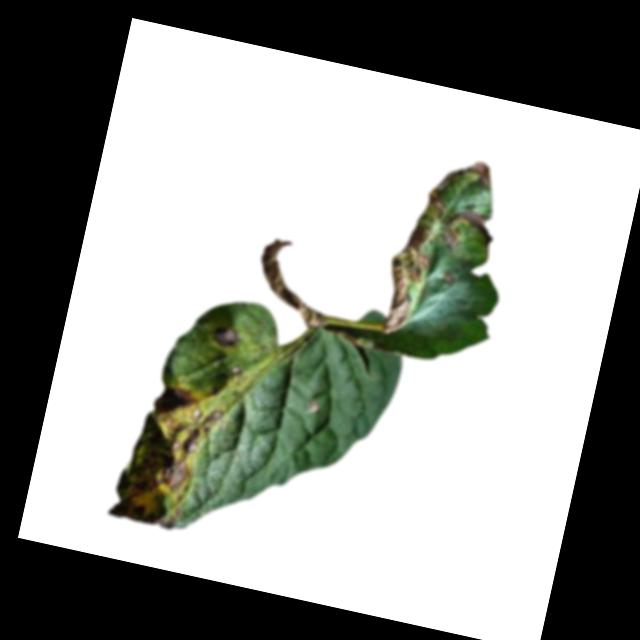Early_blight: (107, 379, 229, 537), (375, 180, 450, 340), (234, 233, 344, 331), (438, 205, 493, 257), (458, 158, 496, 191), (210, 324, 240, 350), (440, 271, 453, 285)
